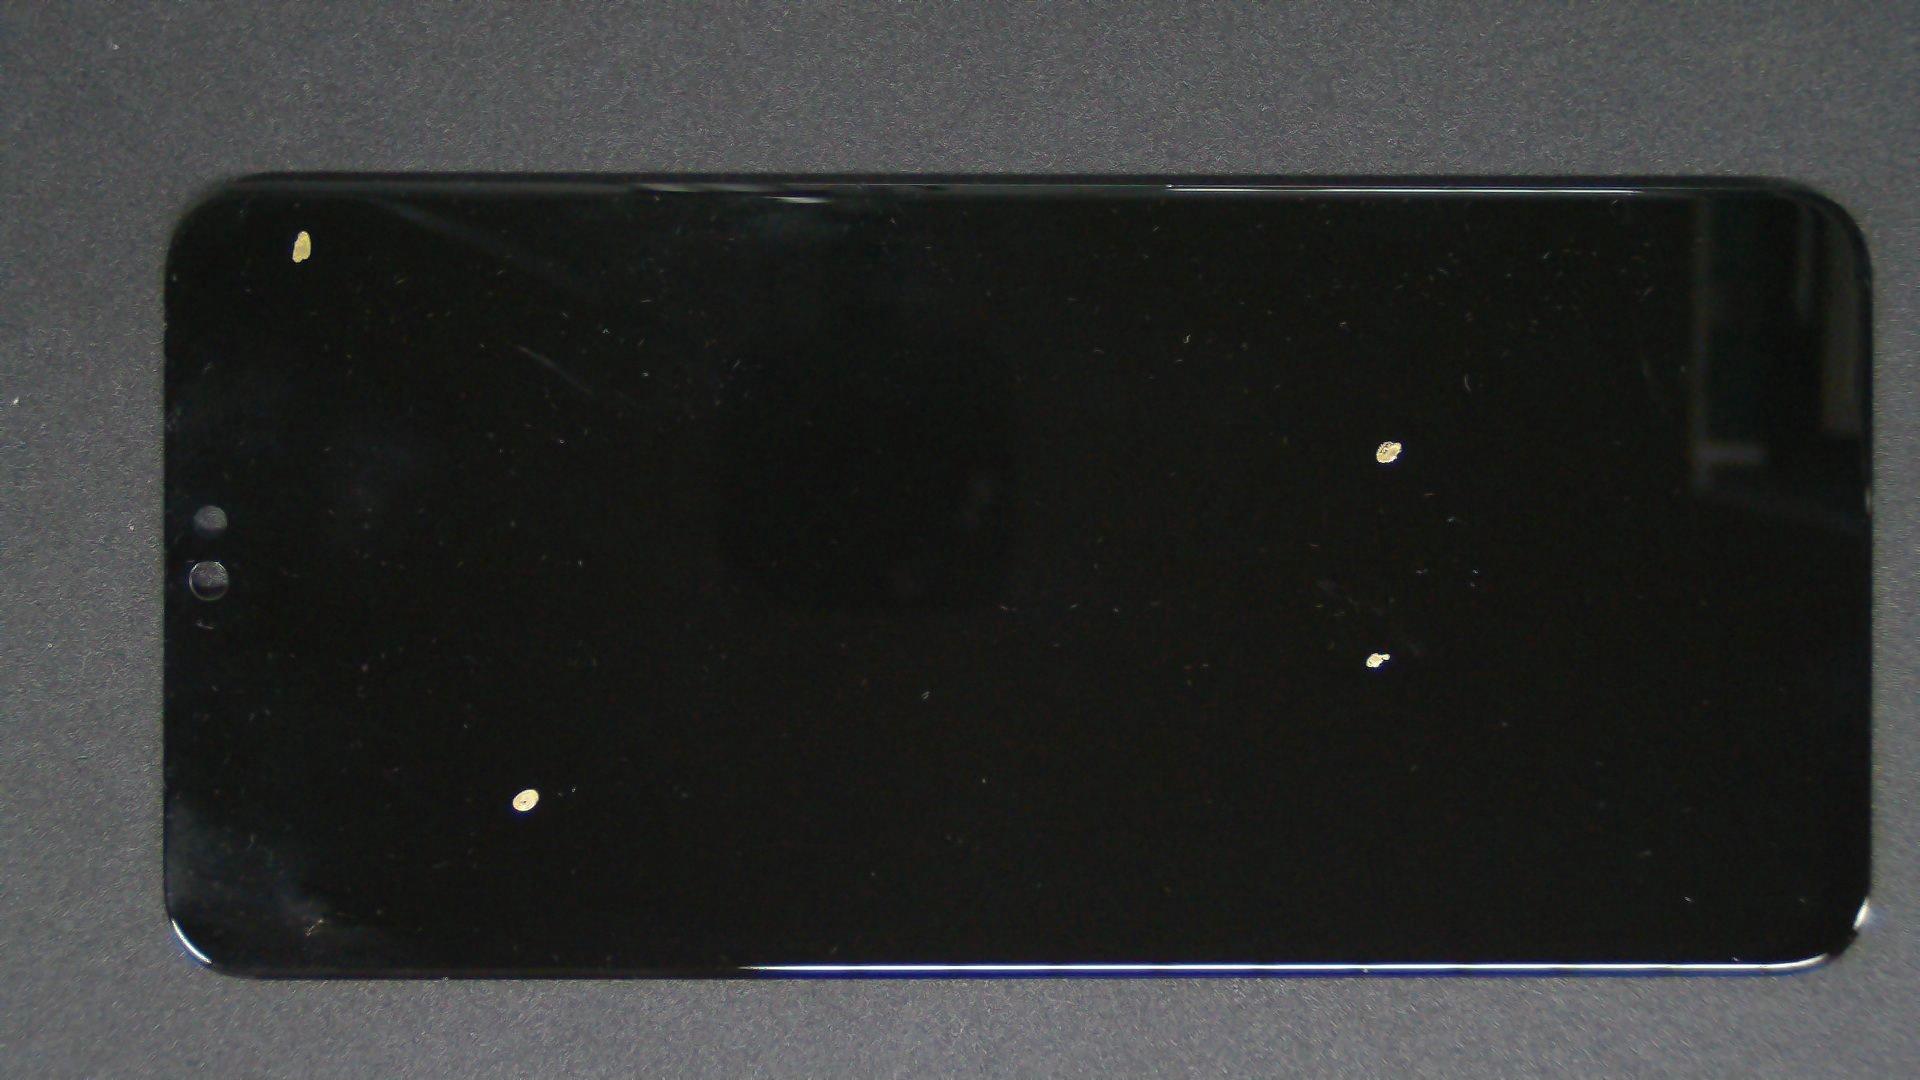oil: (688, 326, 1920, 978), (694, 219, 1920, 659), (266, 393, 796, 1080), (152, 115, 454, 345)
